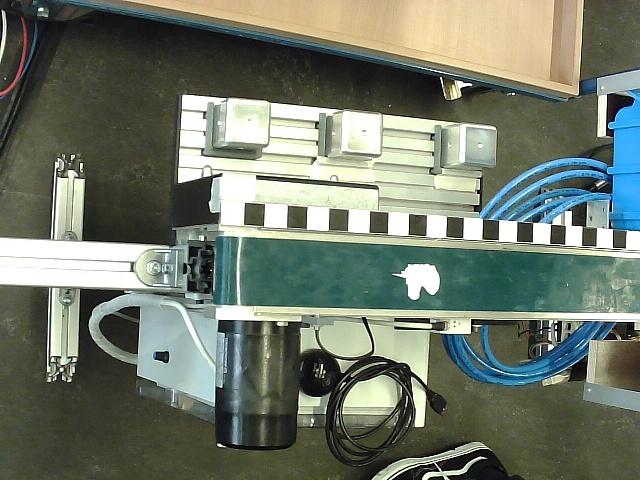unicorn: (391, 262, 441, 301)
